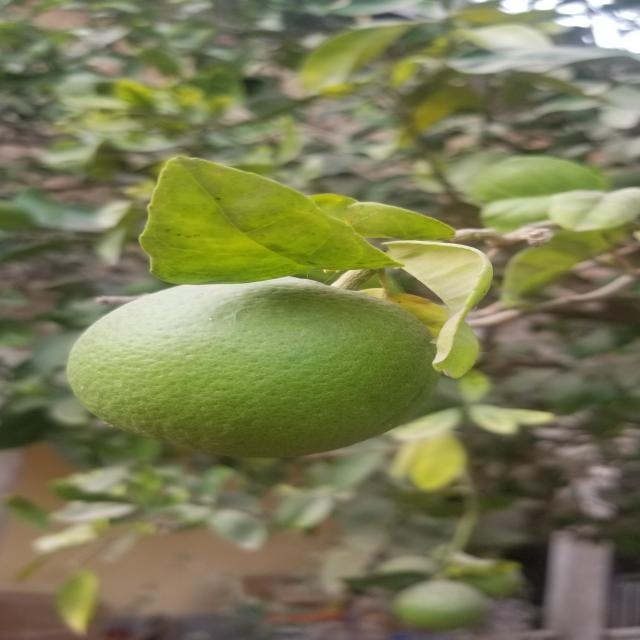agrume: (43, 270, 457, 492)
